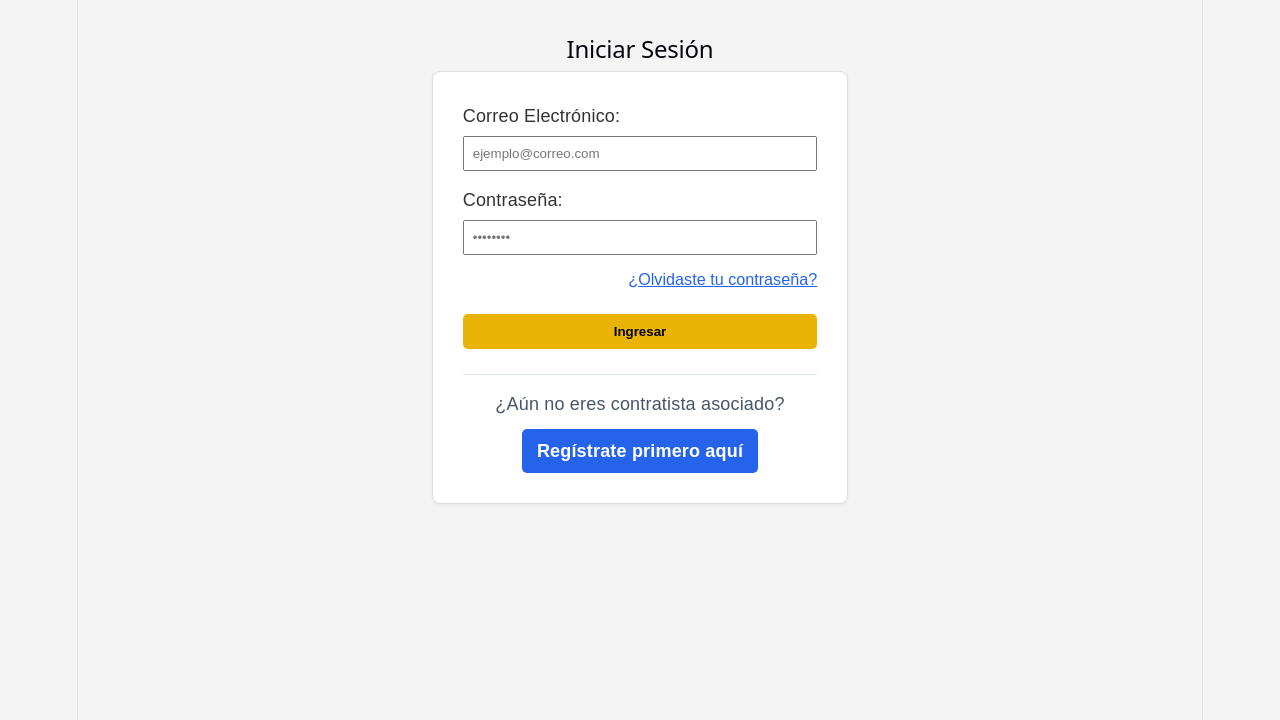
Pruebas de Estado y Eventos › Test 9: Muestra mensaje de error al enviar formulario de Login vacío
The width and height of the screenshot is (1280, 720).
Click the button "Ingresar" at (640, 331), box [463, 314, 817, 349]
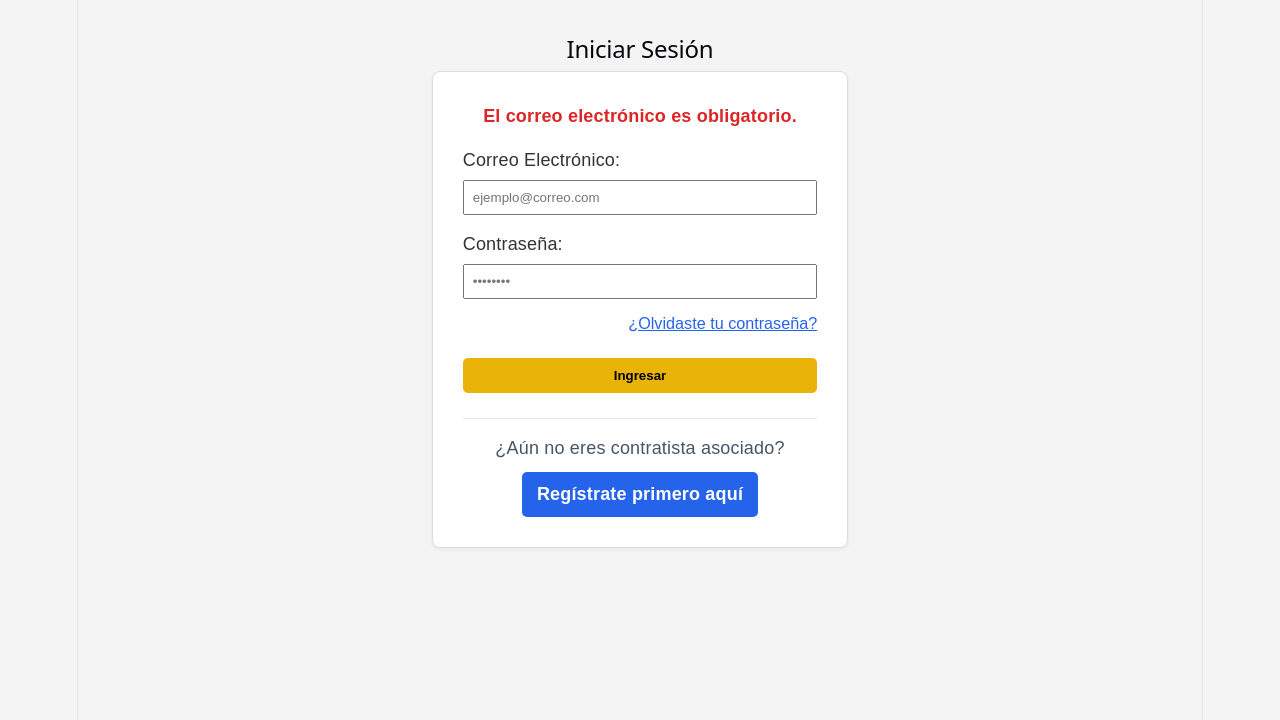
Now the text "El correo electrónico es obligatorio." is shown, box [463, 102, 817, 131]
